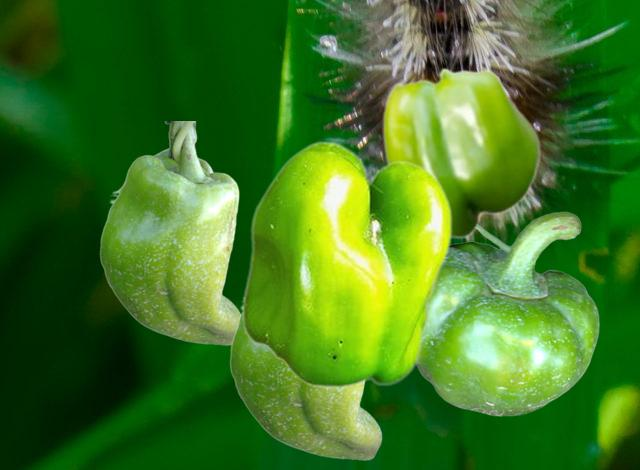bell_pepper: (241, 140, 451, 387), (416, 211, 598, 415), (99, 121, 240, 344), (382, 67, 540, 238), (229, 300, 381, 459)
